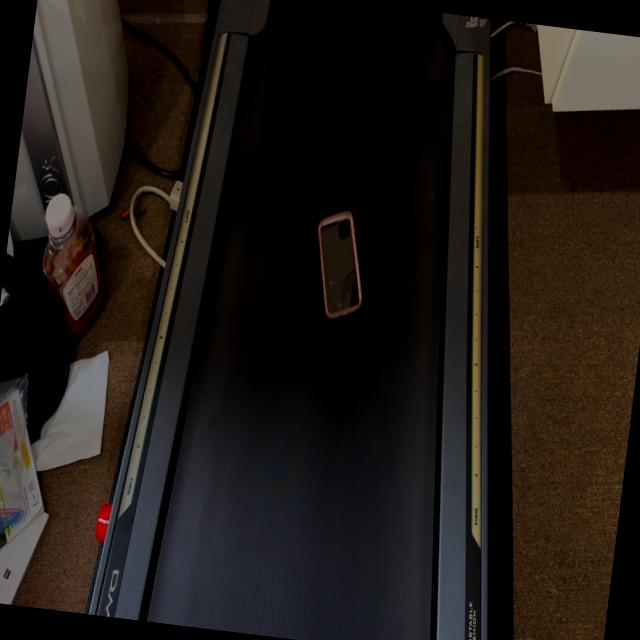Trash: (304, 204, 374, 323)
